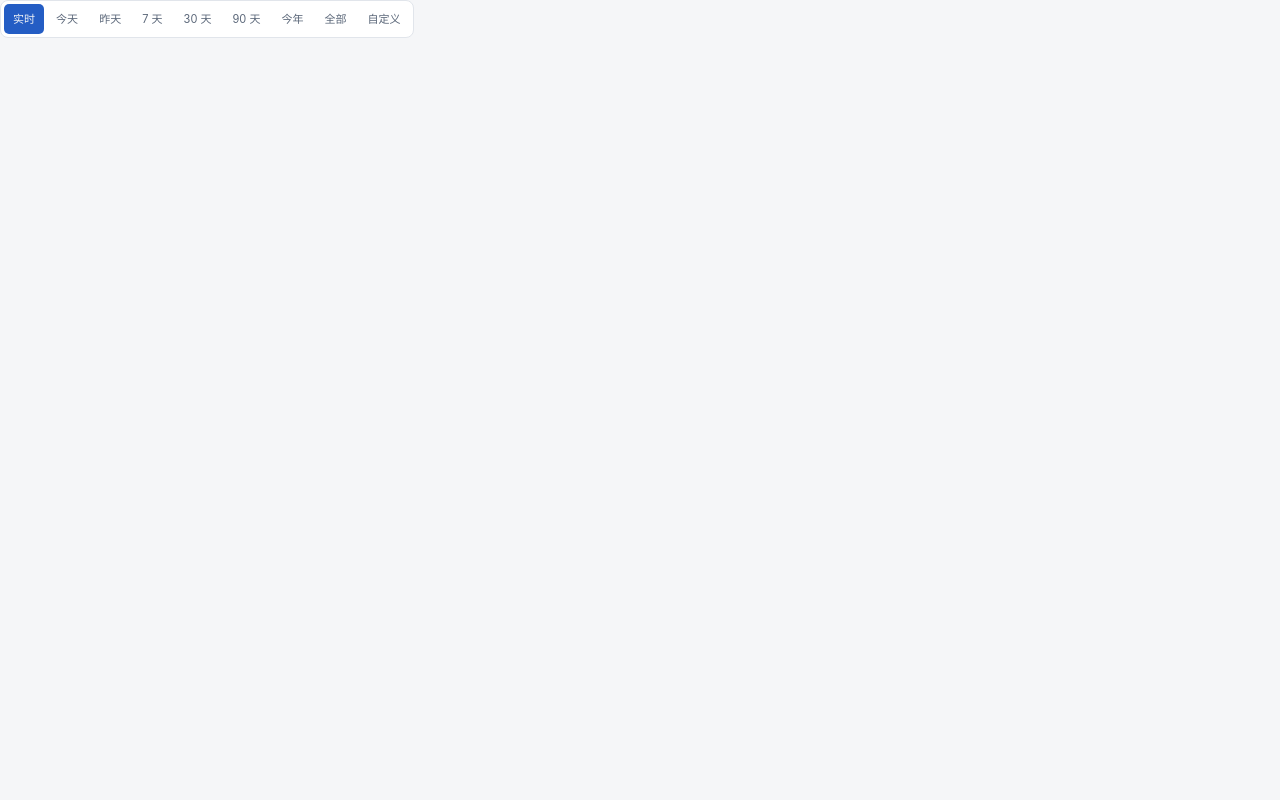
Test: RangeSelector › selects and applies dates through date cards and the calendar
Click the button "自定义".
click(384, 19)  # box x1=359 y1=4 x2=410 y2=34
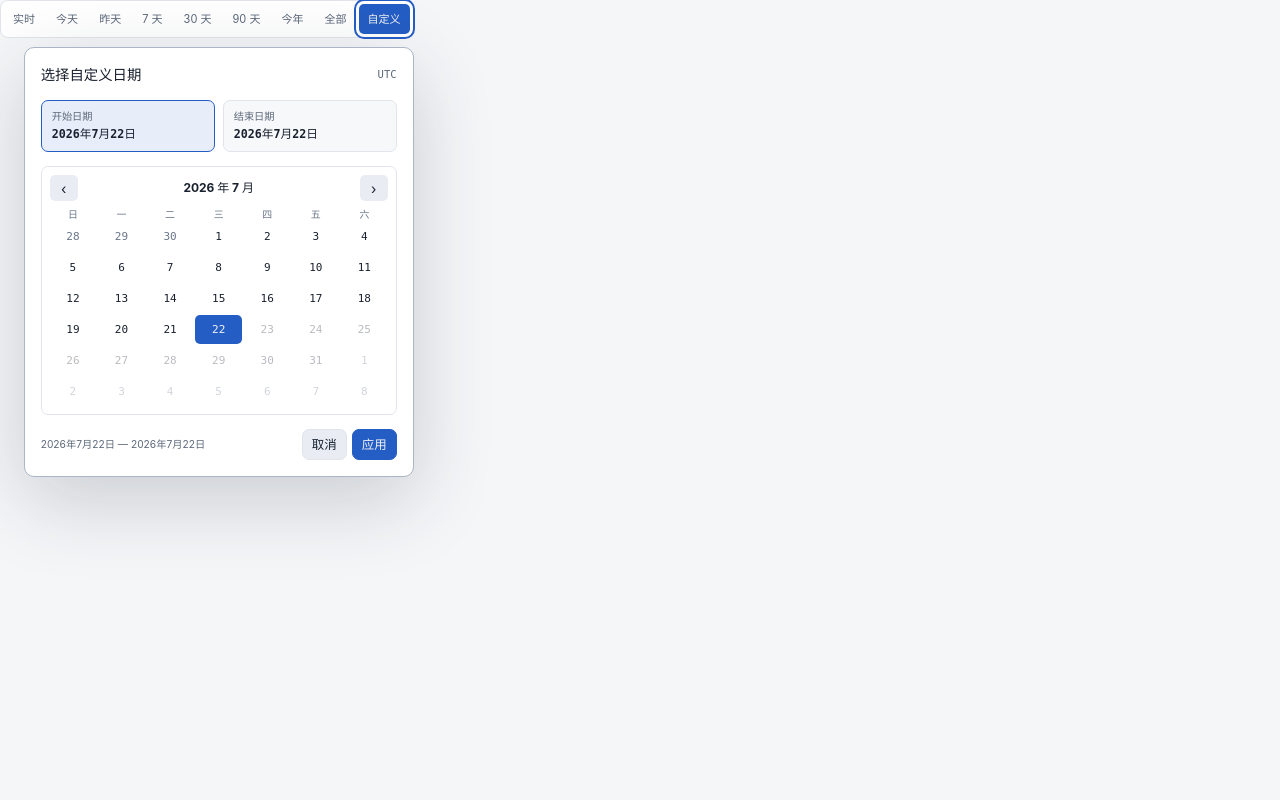
Click the button named "2026-07-16".
click(267, 299)  # box x1=244 y1=284 x2=290 y2=313
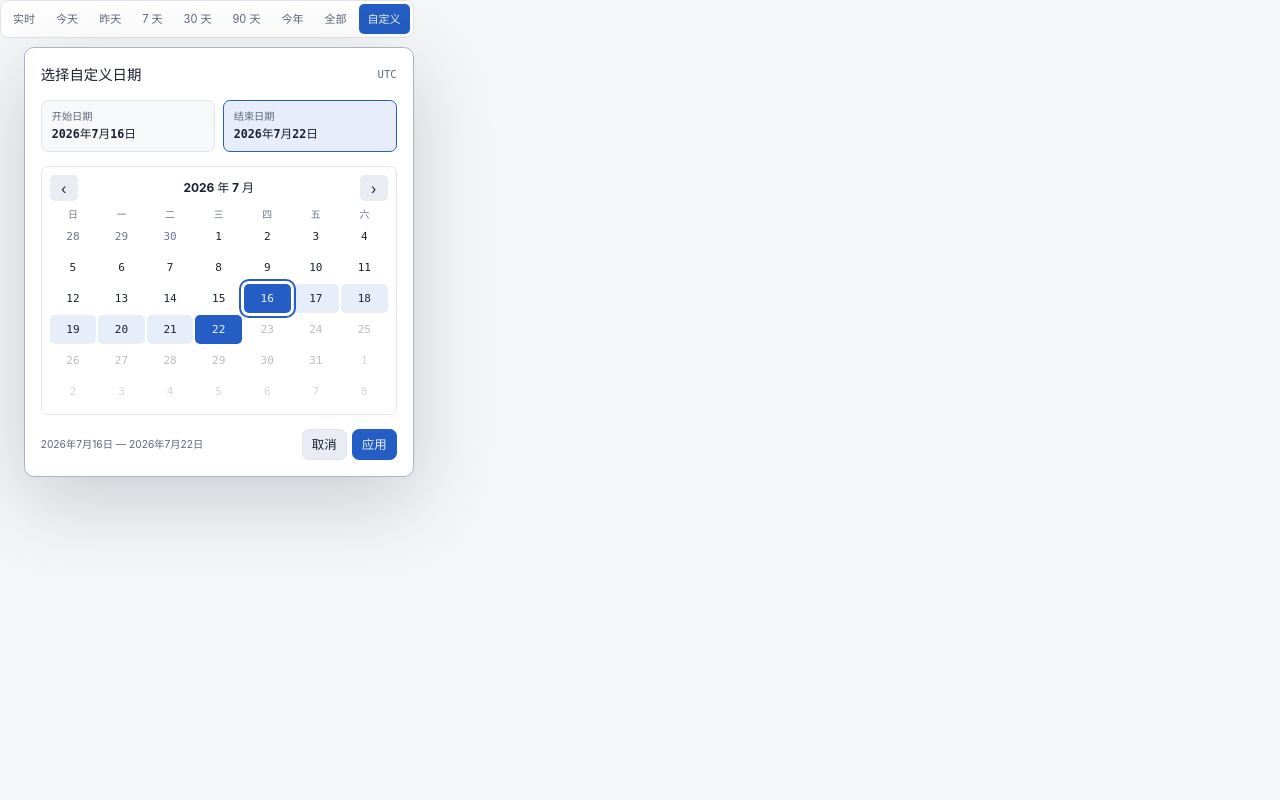
Click the button named "2026-07-22".
click(219, 330)  # box x1=195 y1=315 x2=242 y2=344
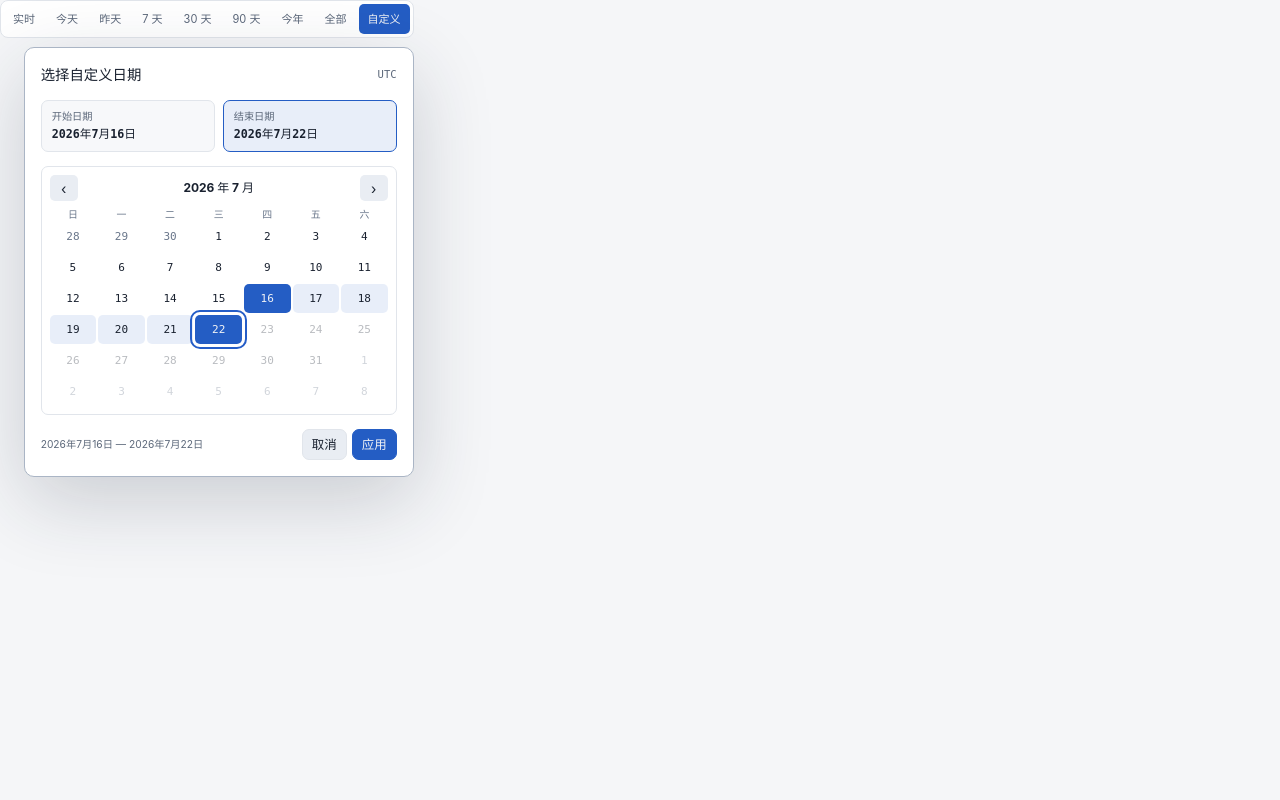
Click the button "应用".
click(374, 445)  # box x1=352 y1=429 x2=397 y2=460
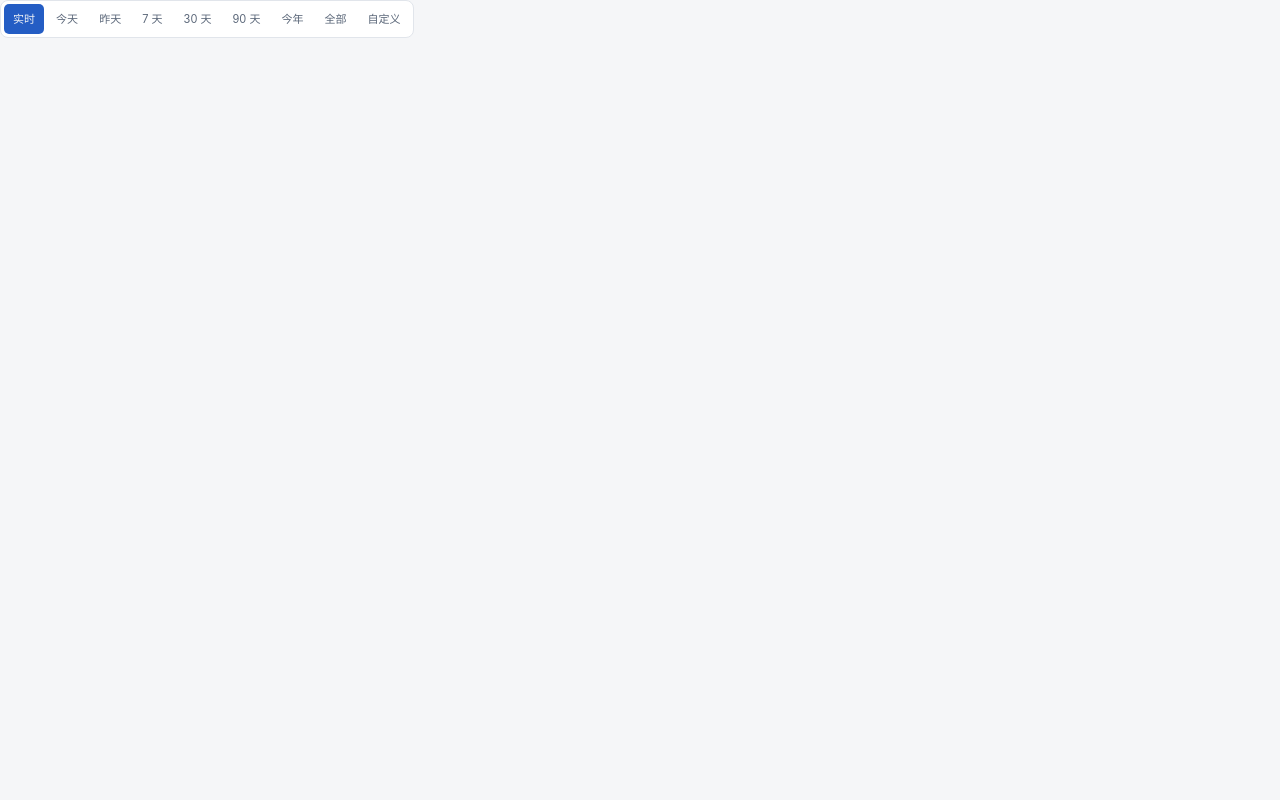
Now the dialog is gone
